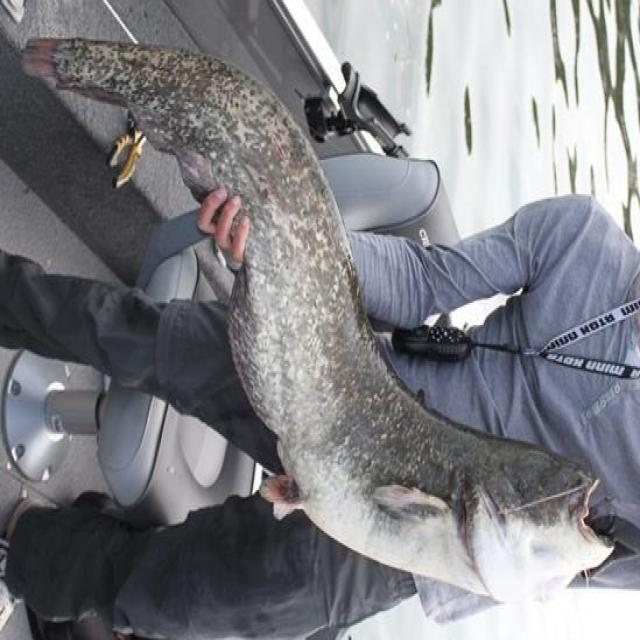Catfish: (16, 28, 619, 628)
